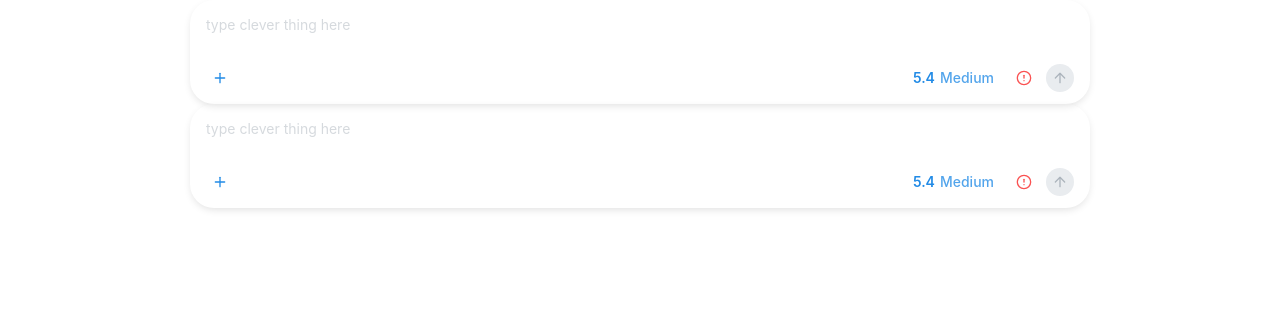
Test case: ThreadPaneComposerBridge › keeps rejected picker intent out of shared settings and retains draft text for an options-free send
In the text box named "message composer": point(640, 35) [204,14,1076,56], type "Keep my unsent text"
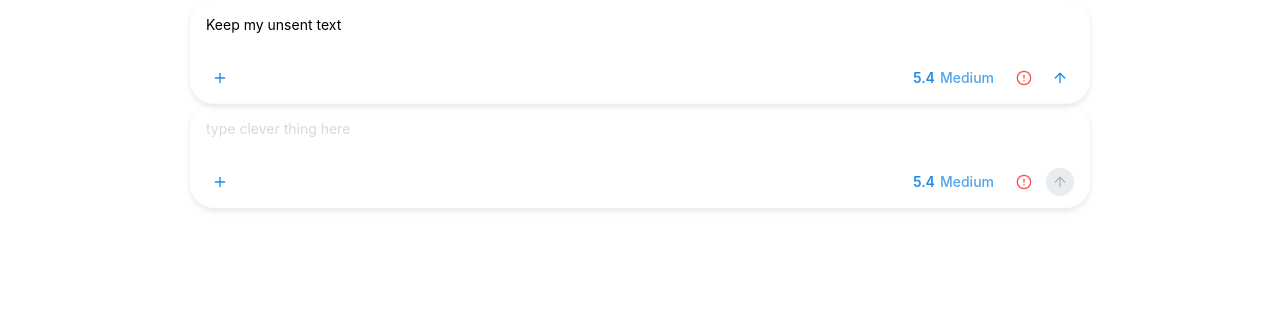
Click the button with aria-label "Model: gpt-5.4, medium": point(953, 78) [903,65,1004,91]
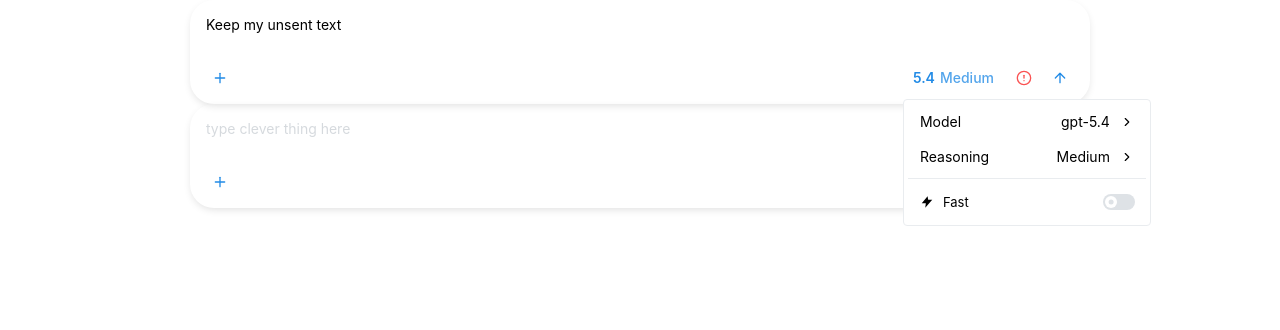
expect the menu item "Reasoning Medium" is shown: met
Click the menu item "Reasoning Medium": point(1027, 156) [908,139,1146,174]
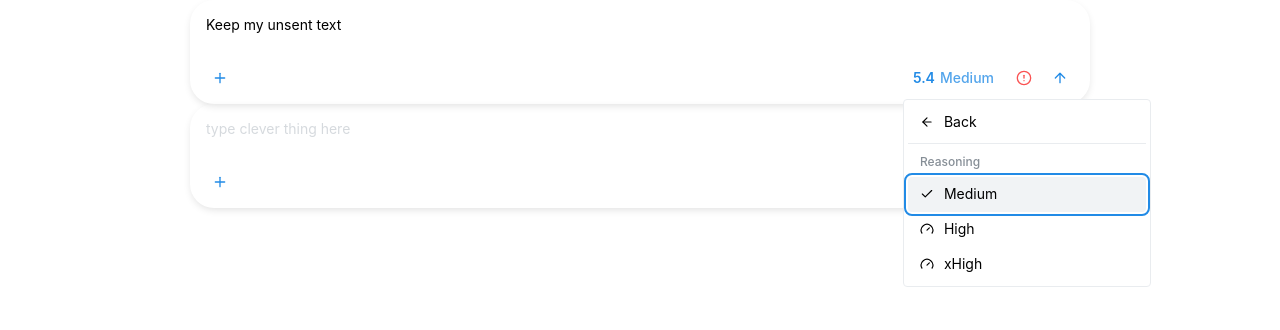
expect the menu item "High" is shown: met
Click the menu item "High": point(1027, 229) [908,212,1146,247]
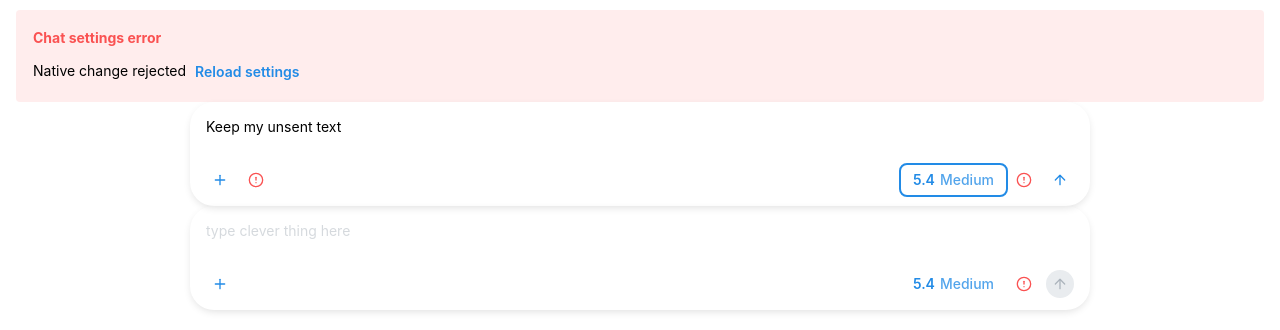
expect the button with aria-label "Model: gpt-5.4, medium" is shown: met, box [903,167,1004,193]
expect the message shows "Native change rejected": met, box [33,62,186,78]
Click the 1st button named "Send message": point(1060, 180) [1044,164,1076,196]
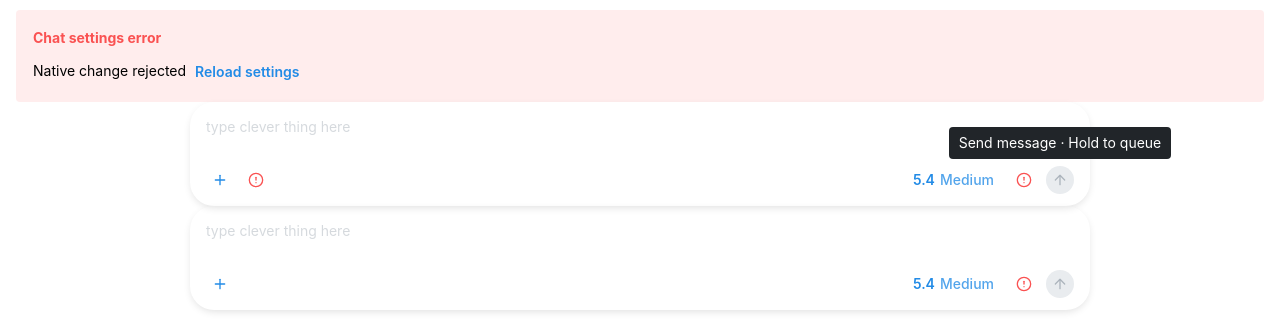
Click the button "Reload settings": point(247, 72) [186,59,308,85]
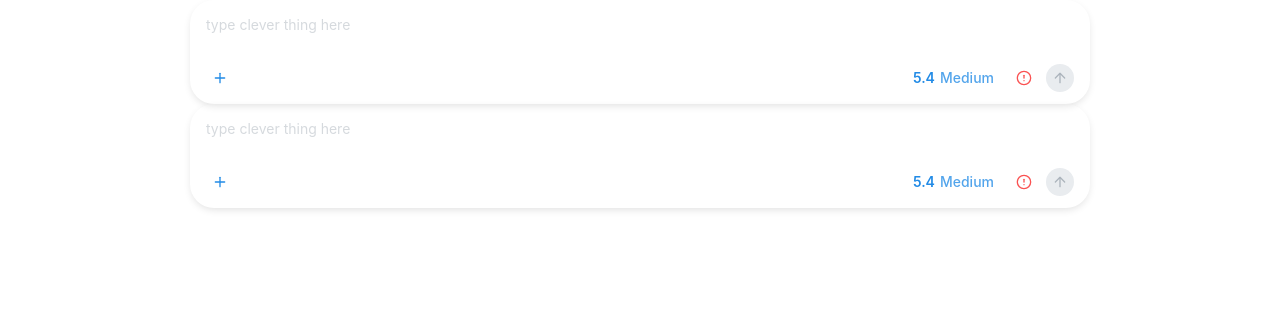
expect the message "Chat settings error Native change rejected Reload settings" is gone: met
